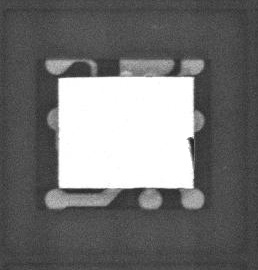DIE_BROKEN: (186, 135, 196, 166)
